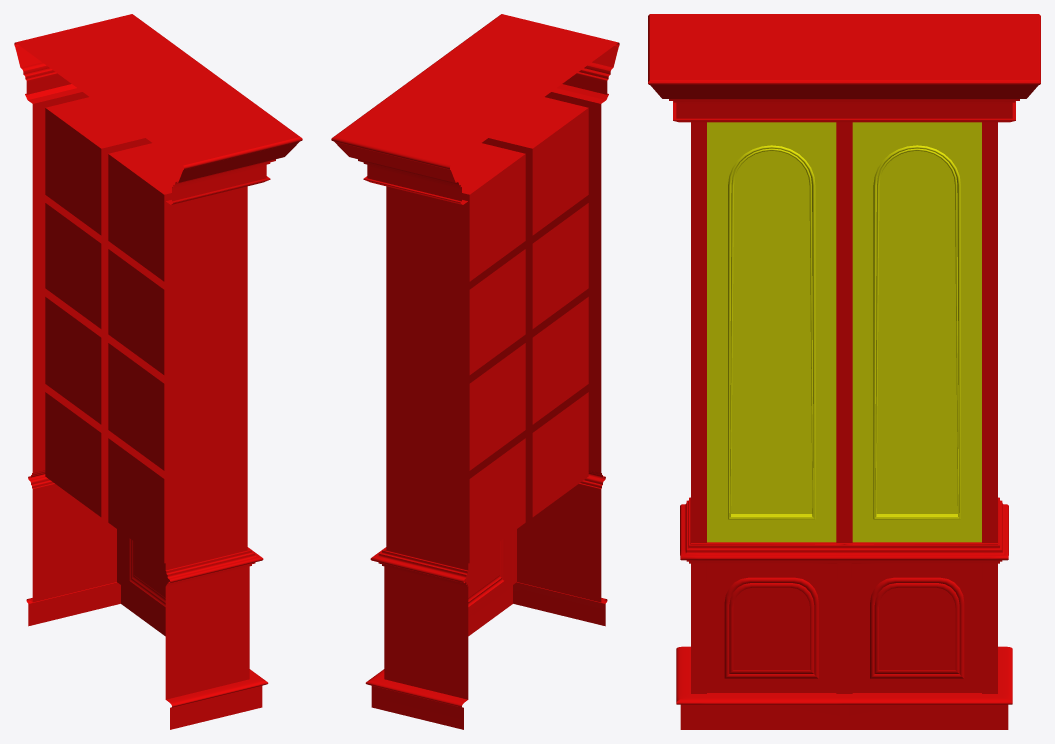
The model's file is Book_Case.fbx.
3 views of the same model, side by side, from view 1: azimuth 30°, elevation 25°; view 2: azimuth 150°, elevation 25°; view 3: azimuth 270°, elevation 25° (orthographic). The views are drawn at different scales.
Parts seen in each view (by area): view 1: Body; view 2: Body; view 3: Body, Doors.
Boxes of the visible parts, left/top/right/bottom form: Body: left=14, top=14, right=302, bottom=729; Body: left=331, top=14, right=619, bottom=729; Body: left=648, top=14, right=1040, bottom=729; Doors: left=707, top=122, right=981, bottom=542.
Bounding box in the file's own units: 0.4837 × 2.24 × 1.2.
